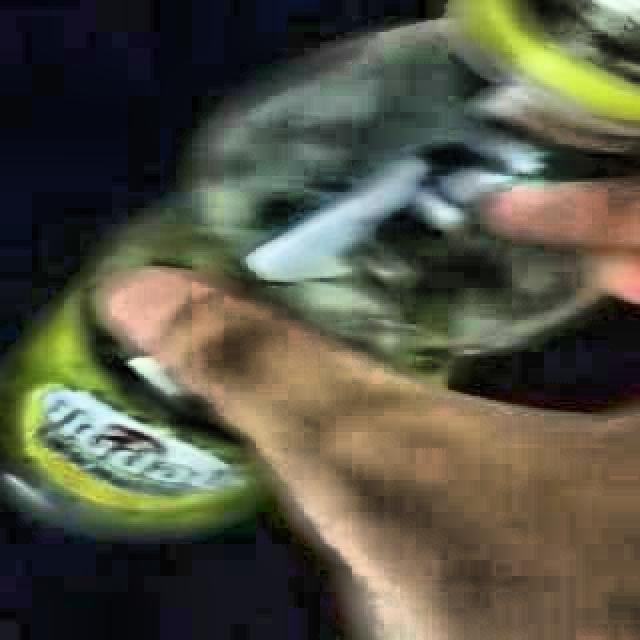plastic: (0, 0, 640, 531)
